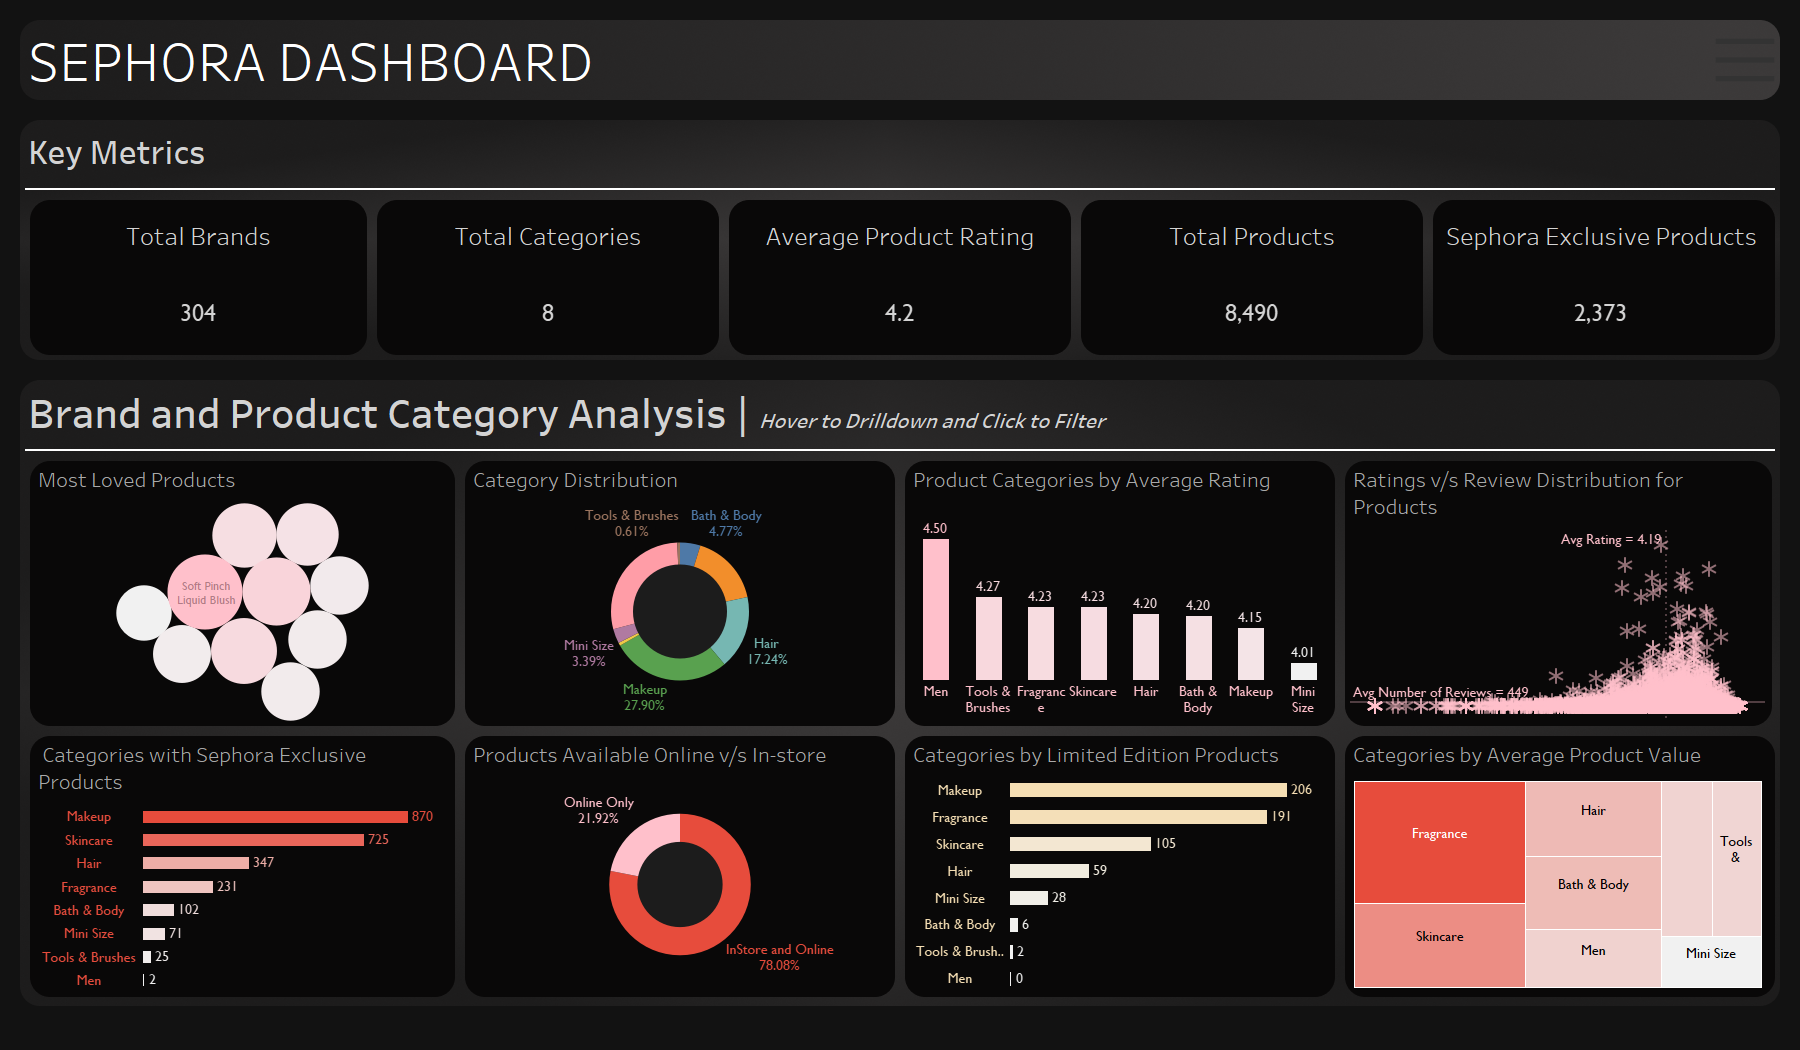

The dashboard page shown, as its layout file describes it:
{"tool":"tableau","page":{"name":"Dashboard 1","canvas":[1920,1080],"ordinal":0},"visuals":[{"type":"text","box":[0,0,728.7,80]},{"type":"blank","box":[728.7,0,560.7,80]},{"type":"blank","box":[1289.3,0,560.7,80]},{"type":"text","box":[0,80,1850,63]},{"type":"blank","box":[0,143,1850,10]},{"type":"text","box":[0,153,370,71]},{"type":"text","box":[370,153,370,71]},{"type":"text","box":[740,153,370,71]},{"type":"text","box":[1110,153,370,71]},{"type":"text","box":[1480,153,370,71]},{"type":"worksheet","title":"Total Brands","mark":"Text","box":[0,224,370,116]},{"type":"worksheet","title":"Number of Categories","mark":"Text","box":[370,224,370,116]},{"type":"worksheet","title":"Average Rating","mark":"Text","box":[740,224,370,116]},{"type":"worksheet","title":"Total Products","mark":"Text","box":[1110,224,370,116]},{"type":"worksheet","title":"Sephora Exclusive Products","mark":"Text","box":[1480,224,370,116]},{"type":"text","box":[0,340,1850,63]},{"type":"blank","box":[0,403,1850,10]},{"type":"text","box":[0,413,460,36]},{"type":"blank","box":[460,413,2,297]},{"type":"text","box":[462,413,460,36]},{"type":"blank","box":[922,413,2,297]},{"type":"text","box":[924,413,460,36]},{"type":"blank","box":[1384,413,2,297]},{"type":"text","box":[1386,413,464,36]},{"type":"worksheet","title":"Top Products by Customer Interest","mark":"Circle","box":[0,449,460,261]},{"type":"worksheet","title":"Product Categories by the Number of Products","mark":"Pie","rows":["Calculation_3819615439485501441","Calculation_3819615439485501441"],"box":[462,449,460,261]},{"type":"worksheet","title":"Highest Rated Product Category","mark":"Bar","rows":["rating"],"cols":["primary_category"],"box":[924,449,460,261]},{"type":"worksheet","title":"Products by Rating vs Reviews","mark":"Automatic","rows":["reviews"],"cols":["rating"],"box":[1386,449,464,261]},{"type":"text","box":[0,710,460,36]},{"type":"blank","box":[460,710,2,290]},{"type":"text","box":[462,710,460,36]},{"type":"blank","box":[922,710,2,290]},{"type":"text","box":[924,710,460,36]},{"type":"blank","box":[1384,710,2,290]},{"type":"text","box":[1386,710,464,36]},{"type":"worksheet","title":"Number of Sephora Exclusive Products by Category","mark":"Bar","rows":["primary_category"],"cols":["sephora_exclusive"],"box":[0,746,460,253.9]},{"type":"worksheet","title":"Online v/s Hybrid Ratio","mark":"Pie","rows":["Calculation_3819615439494504451","Calculation_3819615439494504451"],"box":[462,746,460,254]},{"type":"worksheet","title":"Number of Limited Edition Products by Category","mark":"Bar","rows":["primary_category"],"cols":["limited_edition"],"box":[924,746,460,253.9]},{"type":"worksheet","title":"Average Product Value","mark":"Automatic","box":[1386,746,464,254]}]}

Visuals, with their boxes on the page's 1920x1080 design canvas (x1, y1, x2, y2). These are canvas units, not pixel positions in the 1800x1050 screenshot, which may show the page scaled, cropped or inside an application window:
text: <box>0,0,729,80</box>
blank: <box>729,0,1289,80</box>
blank: <box>1289,0,1850,80</box>
text: <box>0,80,1850,143</box>
blank: <box>0,143,1850,153</box>
text: <box>0,153,370,224</box>
text: <box>370,153,740,224</box>
text: <box>740,153,1110,224</box>
text: <box>1110,153,1480,224</box>
text: <box>1480,153,1850,224</box>
"Total Brands" worksheet (Text marks): <box>0,224,370,340</box>
"Number of Categories" worksheet (Text marks): <box>370,224,740,340</box>
"Average Rating" worksheet (Text marks): <box>740,224,1110,340</box>
"Total Products" worksheet (Text marks): <box>1110,224,1480,340</box>
"Sephora Exclusive Products" worksheet (Text marks): <box>1480,224,1850,340</box>
text: <box>0,340,1850,403</box>
blank: <box>0,403,1850,413</box>
text: <box>0,413,460,449</box>
blank: <box>460,413,462,710</box>
text: <box>462,413,922,449</box>
blank: <box>922,413,924,710</box>
text: <box>924,413,1384,449</box>
blank: <box>1384,413,1386,710</box>
text: <box>1386,413,1850,449</box>
"Top Products by Customer Interest" worksheet (Circle marks): <box>0,449,460,710</box>
"Product Categories by the Number of Products" worksheet (Pie marks): <box>462,449,922,710</box>
"Highest Rated Product Category" worksheet (Bar marks): <box>924,449,1384,710</box>
"Products by Rating vs Reviews" worksheet: <box>1386,449,1850,710</box>
text: <box>0,710,460,746</box>
blank: <box>460,710,462,1000</box>
text: <box>462,710,922,746</box>
blank: <box>922,710,924,1000</box>
text: <box>924,710,1384,746</box>
blank: <box>1384,710,1386,1000</box>
text: <box>1386,710,1850,746</box>
"Number of Sephora Exclusive Products by Category" worksheet (Bar marks): <box>0,746,460,1000</box>
"Online v/s Hybrid Ratio" worksheet (Pie marks): <box>462,746,922,1000</box>
"Number of Limited Edition Products by Category" worksheet (Bar marks): <box>924,746,1384,1000</box>
"Average Product Value" worksheet: <box>1386,746,1850,1000</box>
